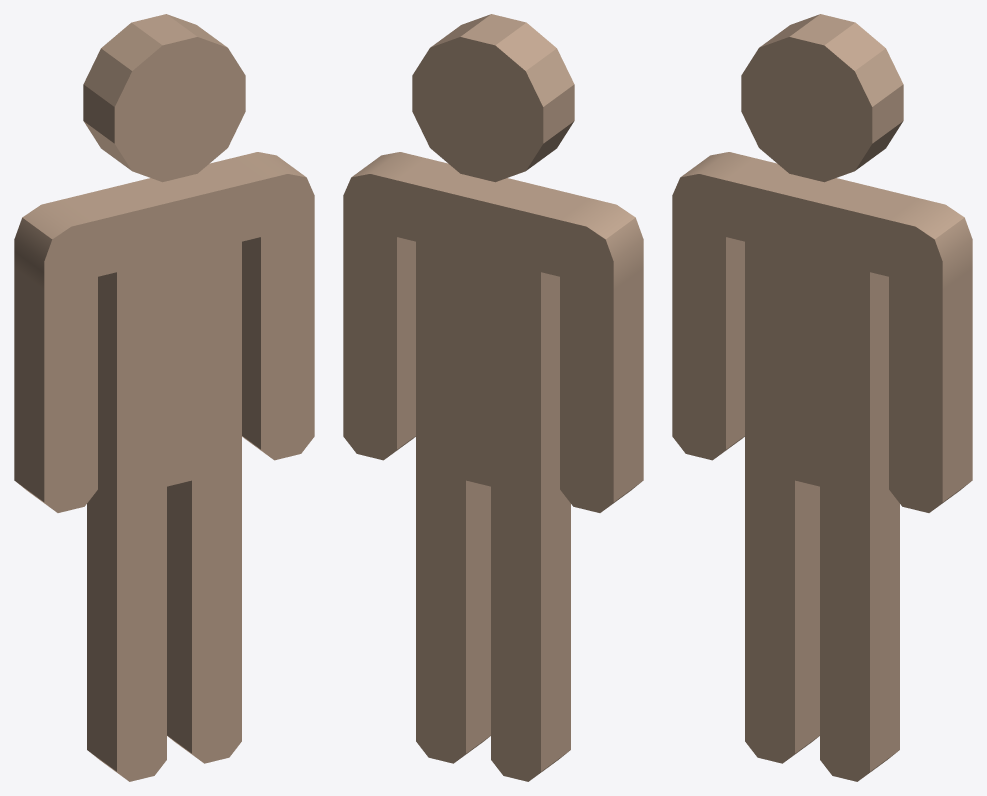
Rendered from player.fbx.
3 views of the same model, side by side, from view 1: azimuth 30°, elevation 25°; view 2: azimuth 150°, elevation 25°; view 3: azimuth 330°, elevation 25° (orthographic).
Parts seen in each view (by area): view 1: man; view 2: man; view 3: man.
Boxes of the visible parts, x1=… form: man: x1=14, y1=14, x2=314, y2=781; man: x1=343, y1=14, x2=643, y2=781; man: x1=672, y1=14, x2=972, y2=781.
Size of the model in its own units: 3.99 by 10.29 by 0.8.
